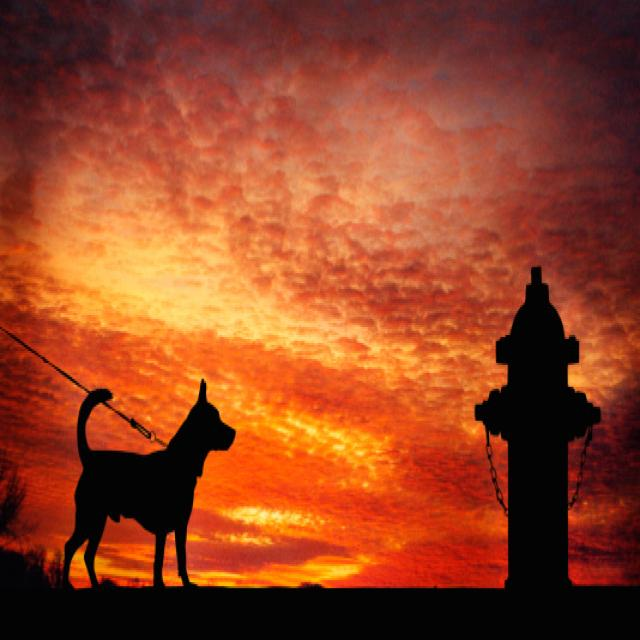dog: (51, 367, 233, 604)
